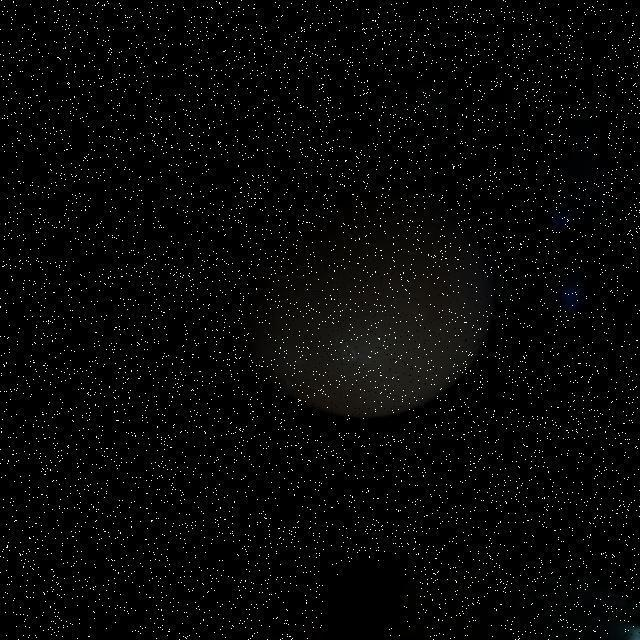egg: (234, 164, 498, 424)
